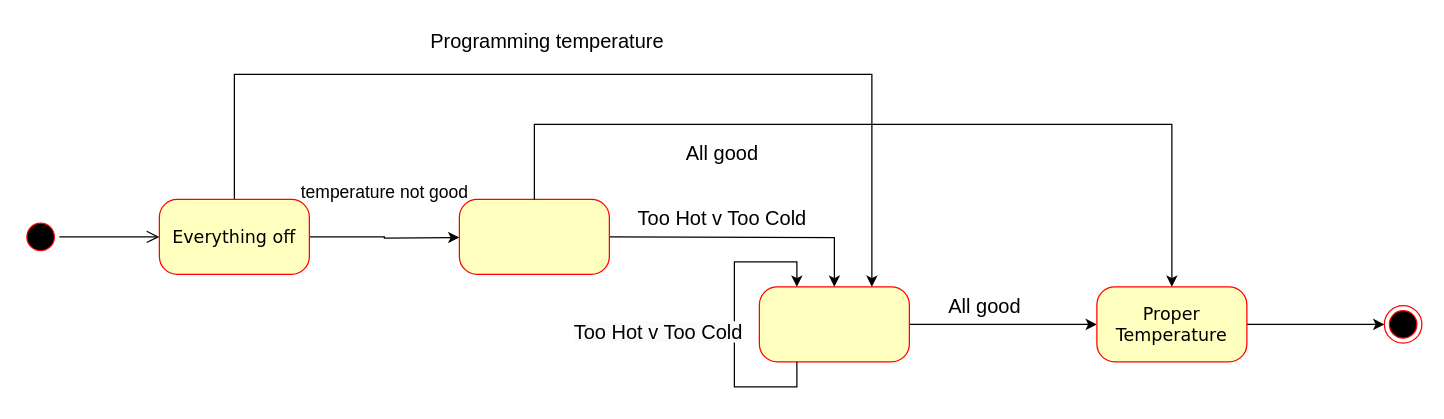
Some shapes in this 1444 by 419 pixel diagram are drawn without their labels. The shapes that lost their labels are listed below. From the top down, each one's box as (x1, y1, x2, y2) in pixels, then its label:
(458, 198, 609, 274): Turn on the air conditioner
(758, 286, 909, 362): Temperature adjustment
